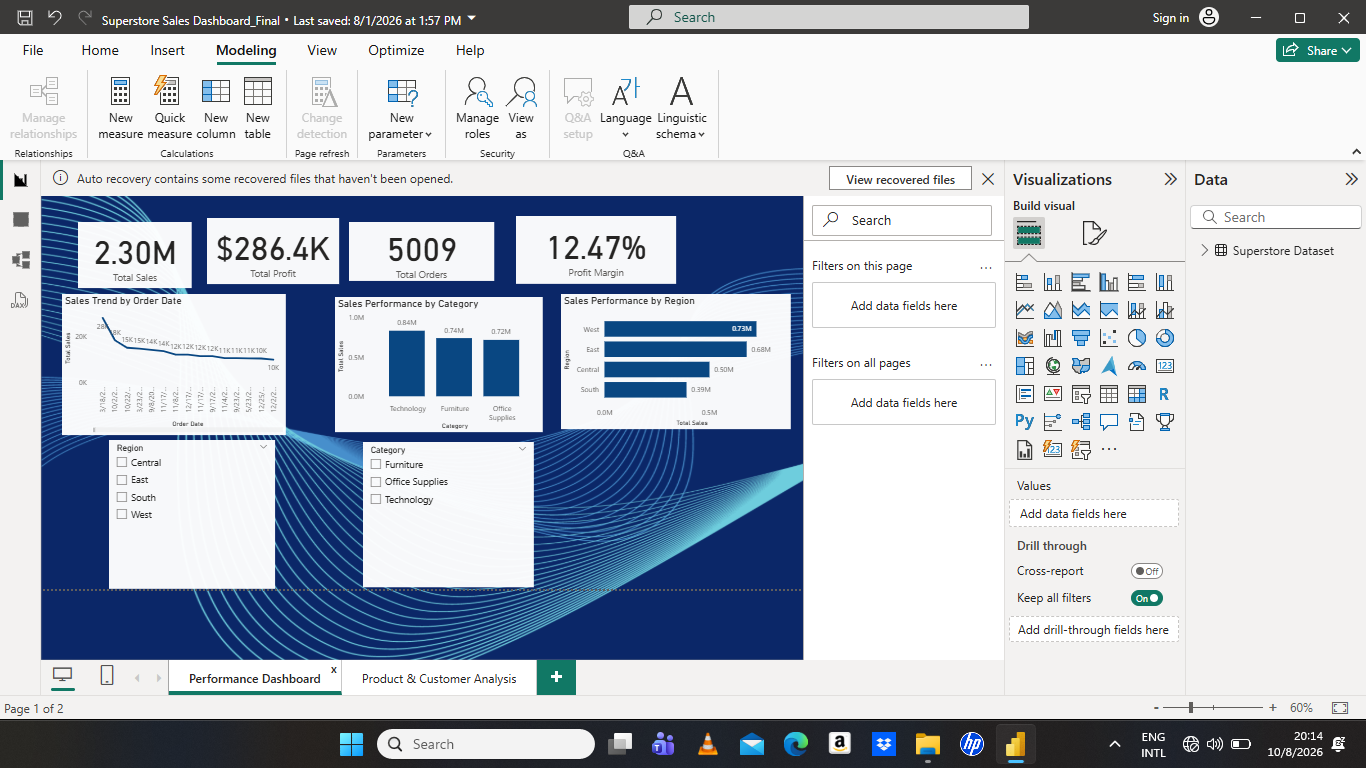

The dashboard page shown, as its layout file describes it:
{"tool":"powerbi","page":{"name":"Performance Dashboard","canvas":[1280,720],"ordinal":0},"visuals":[{"type":"card","fields":{"Values":["Superstore Dataset.Total Sales"]},"box":[62.2,104.1,191.5,110.9],"z":0},{"type":"card","fields":{"Values":["Superstore Dataset.Total Profit"]},"box":[278.8,97.4,221.7,110.9],"z":1000},{"type":"card","fields":{"Values":["Superstore Dataset.Total Orders"]},"box":[517.4,104.1,243.6,99.1],"z":2000},{"type":"card","fields":{"Values":["Superstore Dataset.Profit Margin"]},"box":[708.9,97.4,268.8,114.2],"z":3000},{"type":"clusteredBarChart","title":"Sales Performance by Region","fields":{"Category":["Superstore Dataset.Region"],"Y":["Superstore Dataset.Total Sales"]},"box":[873.5,225.1,386.4,226.8],"z":4000},{"type":"clusteredColumnChart","title":"Sales Performance by Category","fields":{"Category":["Superstore Dataset.Category"],"Y":["Superstore Dataset.Total Sales"]},"box":[493.9,230.1,349.4,226.8],"z":5000},{"type":"lineChart","title":"Sales Trend by Order Date","fields":{"Category":["Superstore Dataset.Order Date"],"Y":["Superstore Dataset.Total Sales"]},"box":[35.3,225.1,376.3,236.9],"z":6000},{"type":"slicer","fields":{"Values":["Superstore Dataset.Region"]},"box":[62.2,470.3,278.8,250.3],"z":7000},{"type":"slicer","fields":{"Values":["Superstore Dataset.Category"]},"box":[598,477.1,287.2,243.6],"z":8000},{"type":"textbox","box":[1118.7,31.9,129.3,23.5],"z":9000}]}

Visuals, with their boxes on the page's 1280x720 design canvas (x1, y1, x2, y2). These are canvas units, not pixel positions in the 1366x768 screenshot, which may show the page scaled, cropped or inside an application window:
card - Superstore Dataset.Total Sales: pyautogui.locateOnScreen(62, 104, 254, 215)
card - Superstore Dataset.Total Profit: pyautogui.locateOnScreen(279, 97, 500, 208)
card - Superstore Dataset.Total Orders: pyautogui.locateOnScreen(517, 104, 761, 203)
card - Superstore Dataset.Profit Margin: pyautogui.locateOnScreen(709, 97, 978, 212)
"Sales Performance by Region" clusteredBarChart: pyautogui.locateOnScreen(874, 225, 1260, 452)
"Sales Performance by Category" clusteredColumnChart: pyautogui.locateOnScreen(494, 230, 843, 457)
"Sales Trend by Order Date" lineChart: pyautogui.locateOnScreen(35, 225, 412, 462)
slicer - Superstore Dataset.Region: pyautogui.locateOnScreen(62, 470, 341, 721)
slicer - Superstore Dataset.Category: pyautogui.locateOnScreen(598, 477, 885, 721)
textbox: pyautogui.locateOnScreen(1119, 32, 1248, 55)
